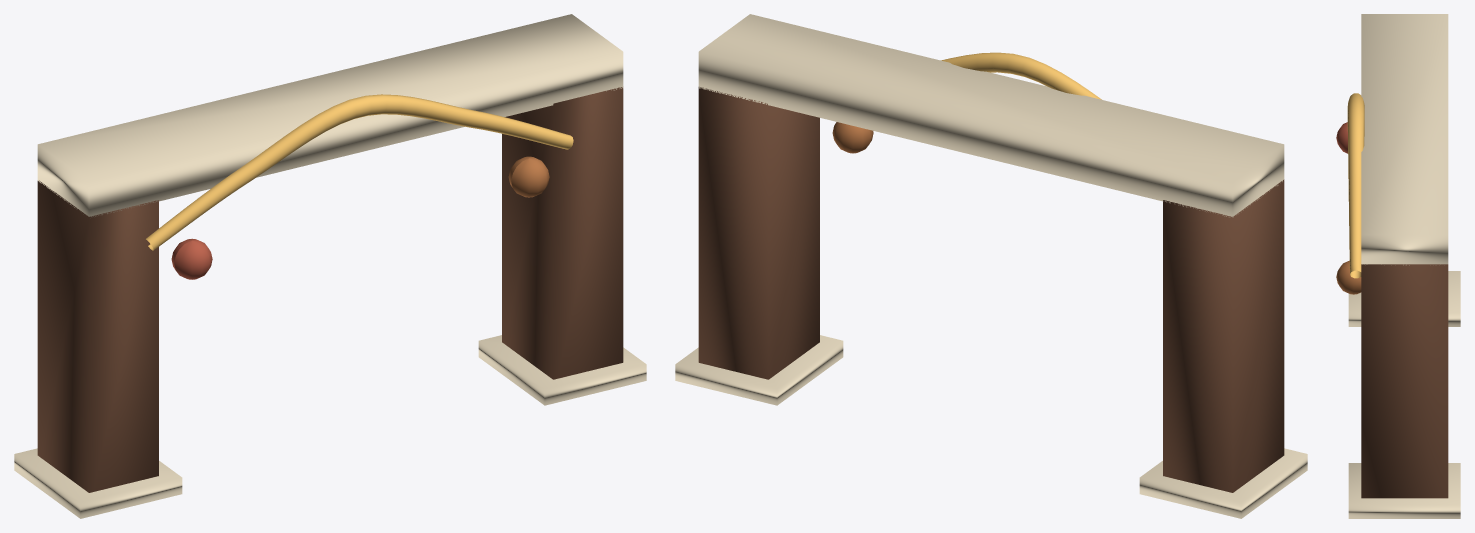
The model's file is paper-glider-archive-gate.glb.
3 renders of one model, left to right at view 1: azimuth 30°, elevation 25°; view 2: azimuth 150°, elevation 25°; view 3: azimuth 270°, elevation 25°, orthographic. The views are drawn at different scales.
Visible parts, largest first — view 1: part-top-beam, part-left-pier, part-right-pier, spline-route-arch, part-left-plinth, part-right-plinth, part-right-beacon, part-left-beacon; view 2: part-top-beam, part-left-pier, part-right-pier, part-left-plinth, part-right-plinth, spline-route-arch, part-right-beacon; view 3: part-top-beam, part-right-pier, part-right-plinth, spline-route-arch, part-left-plinth, part-right-beacon, part-left-beacon.
Boxes of the visible parts, bbox=[...] form: part-top-beam: bbox=[37, 14, 623, 216]; part-left-pier: bbox=[37, 180, 158, 492]; part-right-pier: bbox=[502, 87, 623, 379]; spline-route-arch: bbox=[146, 94, 573, 250]; part-left-plinth: bbox=[14, 448, 182, 518]; part-right-plinth: bbox=[478, 335, 646, 405]; part-right-beacon: bbox=[508, 156, 549, 197]; part-left-beacon: bbox=[171, 238, 212, 279]; part-top-beam: bbox=[698, 14, 1284, 217]; part-left-pier: bbox=[1163, 179, 1284, 492]; part-right-pier: bbox=[698, 87, 819, 379]; part-left-plinth: bbox=[1139, 448, 1307, 518]; part-right-plinth: bbox=[675, 335, 843, 405]; spline-route-arch: bbox=[941, 52, 1101, 99]; part-right-beacon: bbox=[832, 122, 873, 153]; part-top-beam: bbox=[1361, 14, 1448, 265]; part-right-pier: bbox=[1361, 264, 1448, 498]; part-right-plinth: bbox=[1348, 463, 1460, 518]; spline-route-arch: bbox=[1347, 93, 1364, 278]; part-left-plinth: bbox=[1348, 271, 1460, 326]; part-right-beacon: bbox=[1336, 260, 1361, 294]; part-left-beacon: bbox=[1336, 122, 1347, 153].
Size of the model in its own units: 8.9 by 5.23 by 2.
